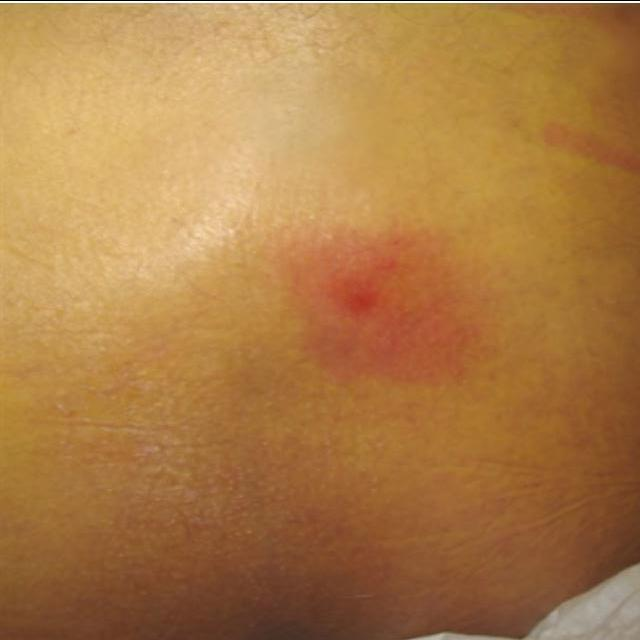stage-1: (286, 237, 478, 389)
